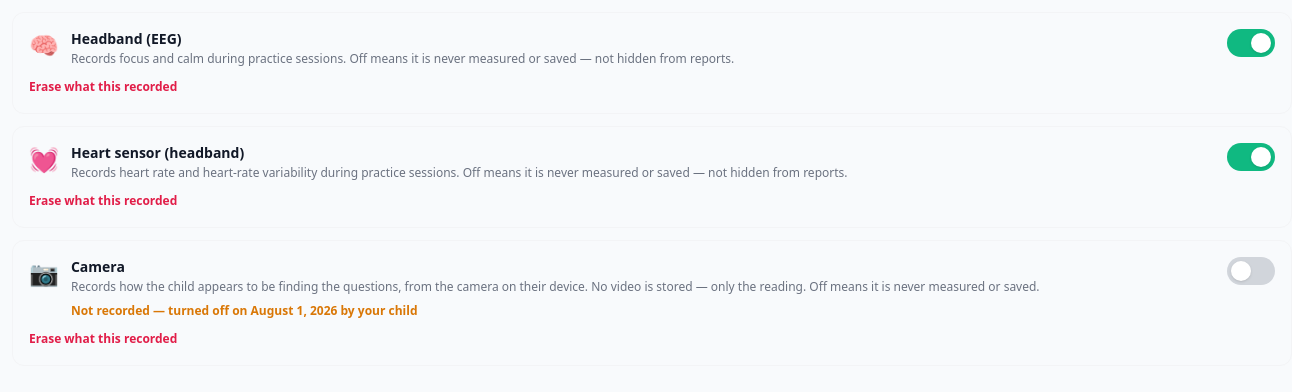
Test: telling this browser's lesson pages › announces nothing after a failure
Click the switch named "Camera".
click(1251, 271)  # box x1=1227 y1=257 x2=1275 y2=285
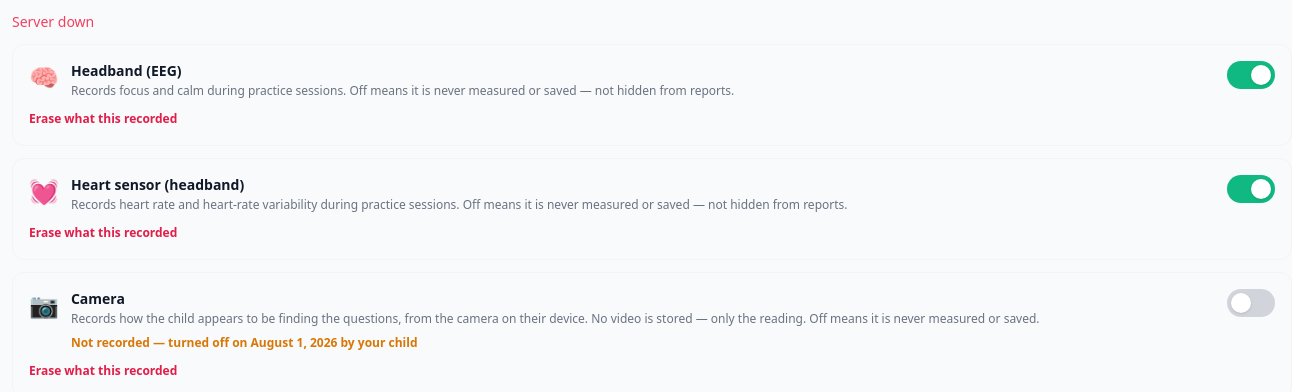
Result: the text "Server down" is shown at x1=12 y1=12 x2=94 y2=31
